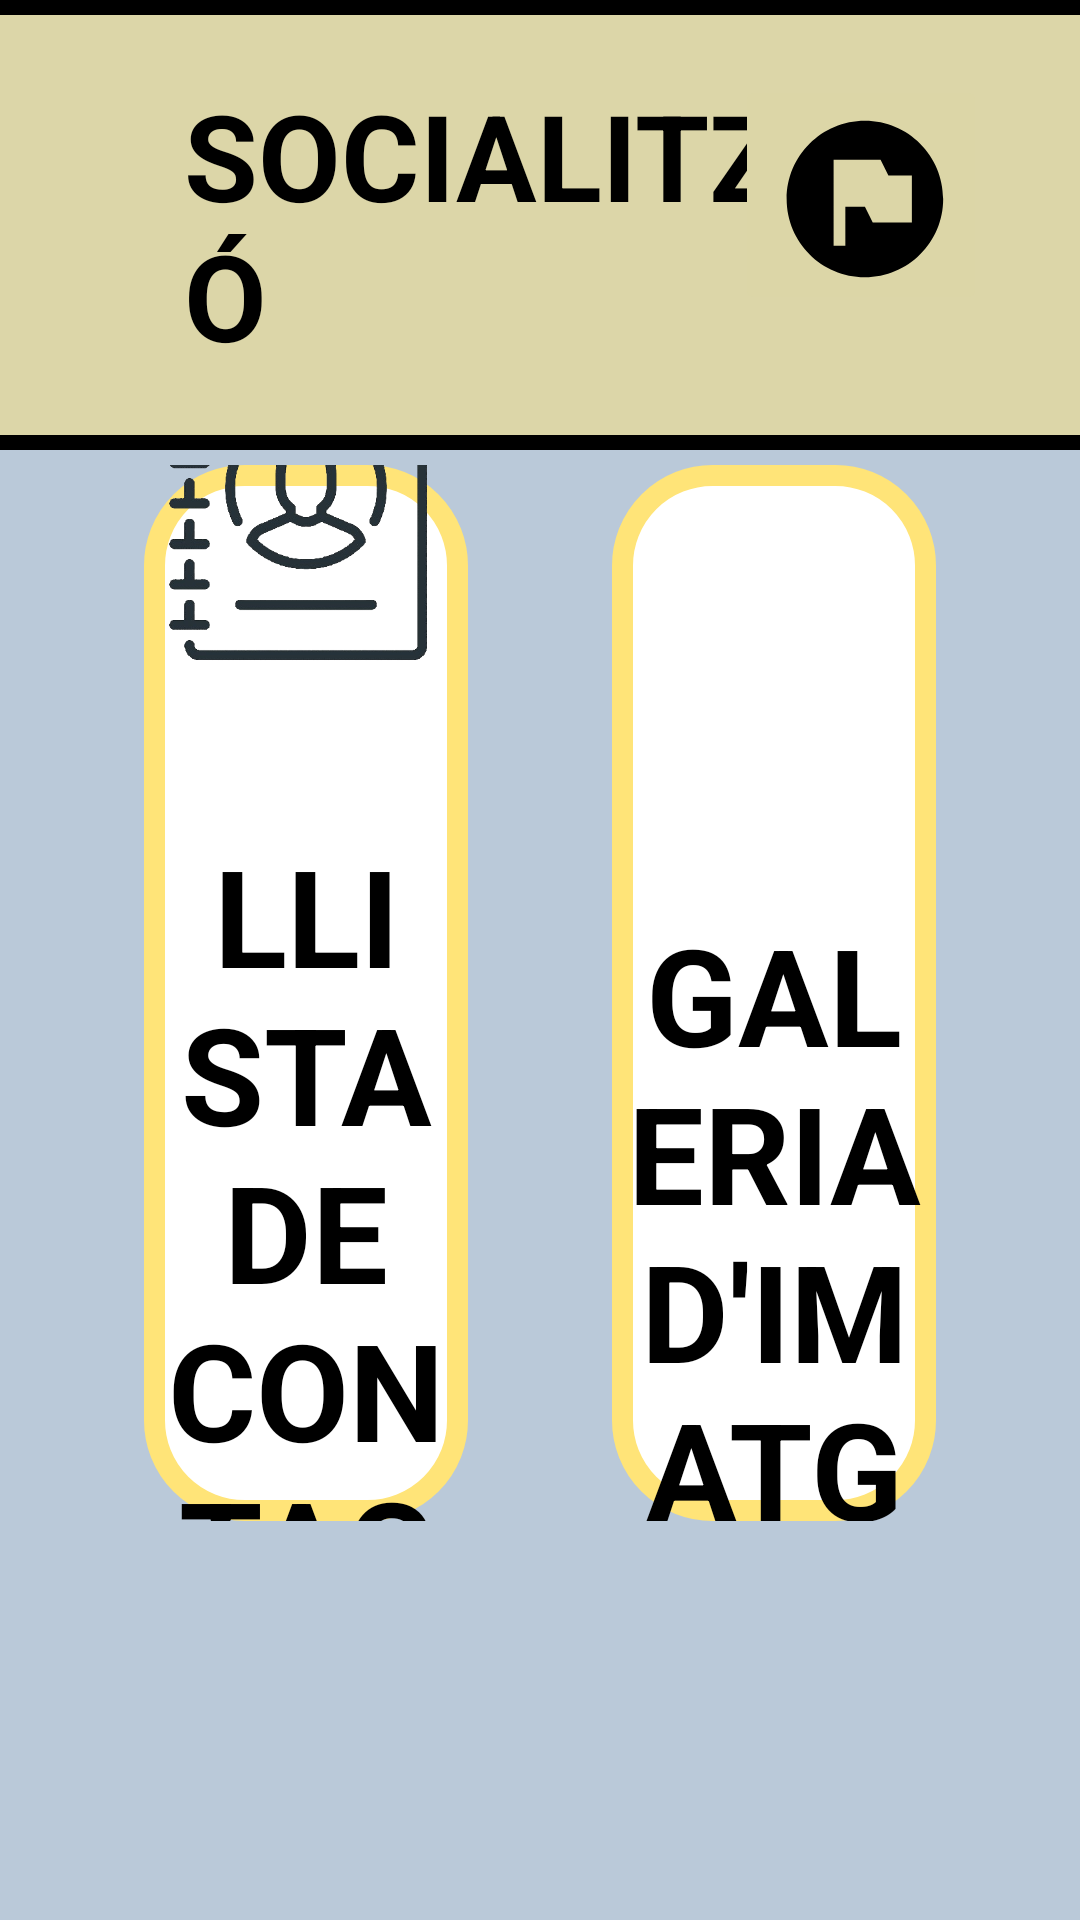

Where icons sit on this 1080*1920 app screen, as (x1, y1, x2, y2):
flag circle: (786, 120, 944, 278)
